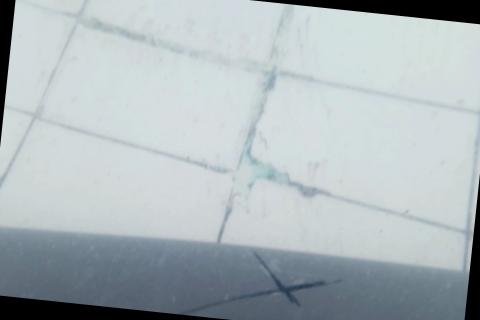keretakan: (162, 242, 342, 320)
